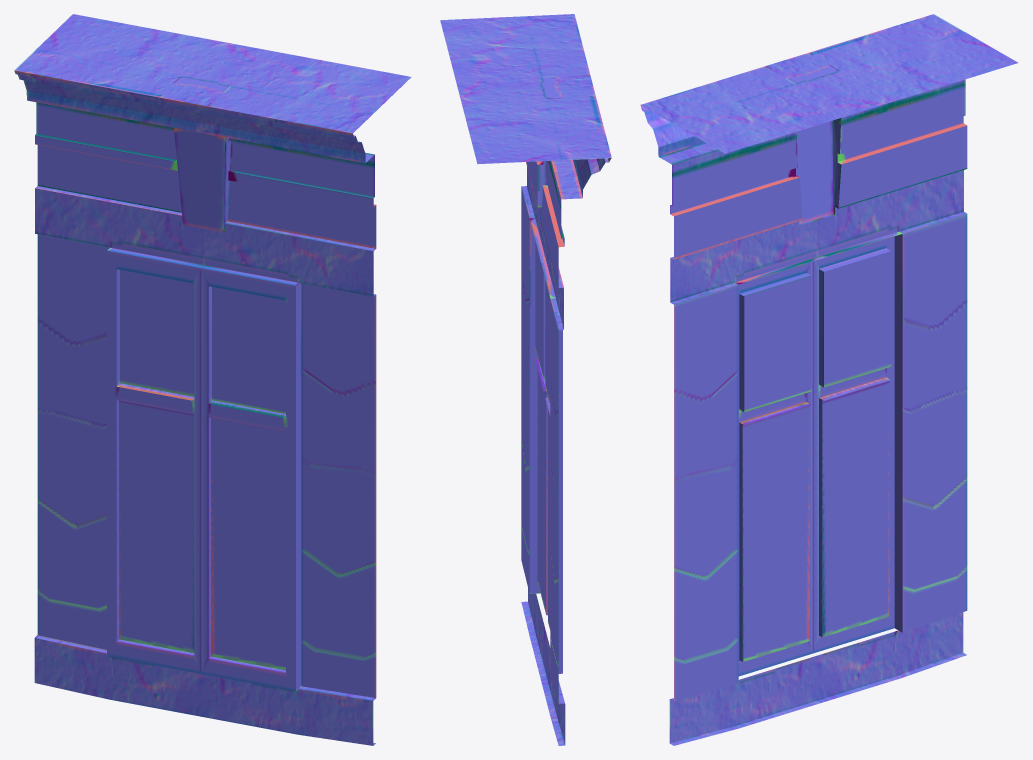
3 views of the same model, side by side, from view 1: azimuth 30°, elevation 25°; view 2: azimuth 150°, elevation 25°; view 3: azimuth 270°, elevation 25° (orthographic). The views are drawn at different scales.
Parts seen in each view (by area): view 1: _2Fwindow_low_015__2_; view 2: _2Fwindow_low_015__2_; view 3: _2Fwindow_low_015__2_.
Boxes of the visible parts, box(x1,y1,x2,y2) form: _2Fwindow_low_015__2_: box(14, 14, 411, 745); _2Fwindow_low_015__2_: box(440, 14, 611, 745); _2Fwindow_low_015__2_: box(640, 14, 1018, 745).
Size of the model in its own units: 147 by 307 by 169.
